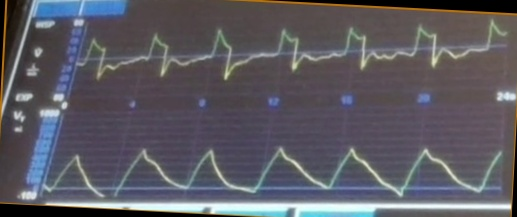Premature_cycling Flow: (83, 19, 505, 89)
Premature_cycling Volume: (51, 145, 502, 199)
